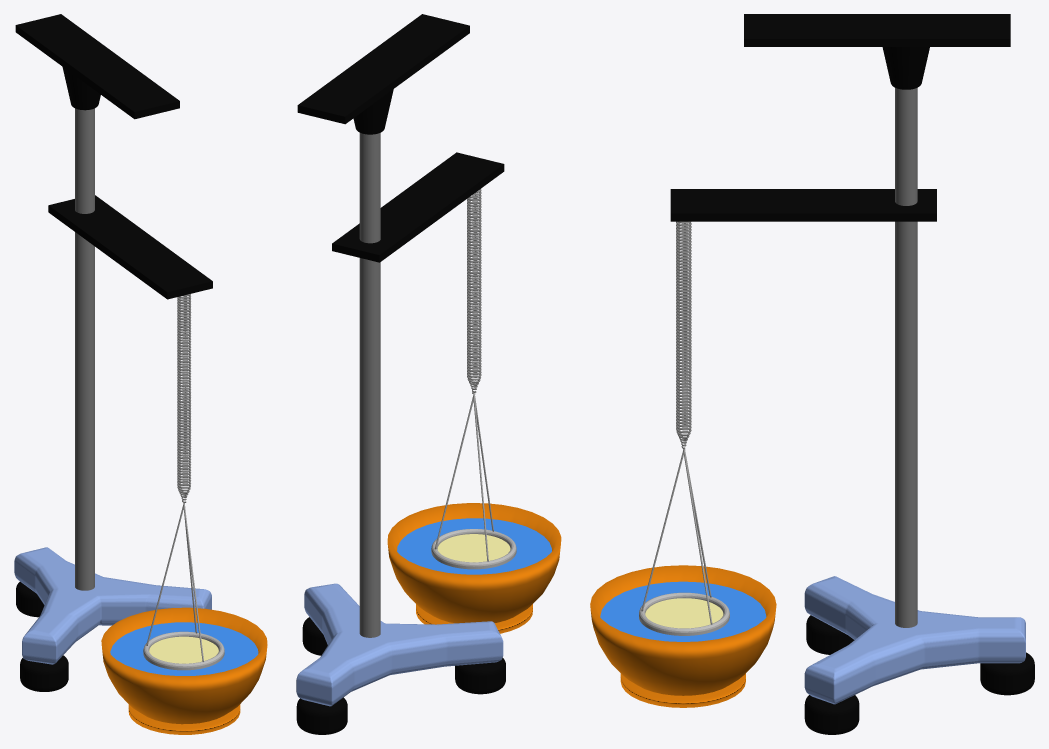
3 views of the same model, side by side, from view 1: azimuth 30°, elevation 25°; view 2: azimuth 150°, elevation 25°; view 3: azimuth 270°, elevation 25° (orthographic). The views are drawn at different scales.
Visible parts, largest first — view 1: Чаша.001, Стойка, Cylinder.001, Cube.001, Cube, water, Пружинка, Cylinder, oilExample, Кольцо, Cylinder.002, Ниточки; view 2: Стойка, Чаша.001, Cylinder.001, Cube.001, Cube, water, Cylinder, Пружинка, oilExample, Кольцо, Ниточки, Cylinder.002; view 3: Стойка, Чаша.001, Cylinder.001, Cube.001, Cube, Cylinder, water, Пружинка, oilExample, Cylinder.002, Кольцо, Ниточки.
Boxes of the visible parts, bbox=[...] form: Чаша.001: bbox=[101, 607, 267, 734]; Стойка: bbox=[14, 547, 211, 664]; Cylinder.001: bbox=[75, 108, 94, 590]; Cube.001: bbox=[15, 14, 179, 119]; Cube: bbox=[48, 195, 212, 299]; water: bbox=[110, 622, 258, 675]; Пружинка: bbox=[177, 294, 191, 503]; Cylinder: bbox=[16, 581, 68, 691]; oilExample: bbox=[149, 636, 218, 663]; Кольцо: bbox=[143, 631, 224, 670]; Cylinder.002: bbox=[62, 67, 100, 110]; Ниточки: bbox=[146, 502, 203, 661]; Стойка: bbox=[296, 583, 503, 706]; Чаша.001: bbox=[387, 503, 561, 633]; Cylinder.001: bbox=[359, 133, 380, 637]; Cube.001: bbox=[297, 14, 469, 124]; Cube: bbox=[332, 152, 504, 262]; water: bbox=[397, 518, 551, 574]; Cylinder: bbox=[296, 617, 505, 734]; Пружинка: bbox=[467, 189, 481, 393]; oilExample: bbox=[437, 534, 510, 562]; Кольцо: bbox=[431, 529, 516, 569]; Ниточки: bbox=[434, 392, 493, 561]; Cylinder.002: bbox=[353, 89, 393, 134]; Стойка: bbox=[804, 576, 1025, 704]; Чаша.001: bbox=[590, 565, 776, 707]; Cylinder.001: bbox=[895, 87, 917, 627]; Cube.001: bbox=[744, 14, 1010, 46]; Cube: bbox=[670, 189, 936, 221]; Cylinder: bbox=[804, 615, 1034, 734]; water: bbox=[600, 581, 766, 641]; Пружинка: bbox=[676, 221, 691, 449]; oilExample: bbox=[645, 598, 723, 628]; Cylinder.002: bbox=[882, 47, 929, 89]; Кольцо: bbox=[639, 592, 729, 635]; Ниточки: bbox=[641, 447, 712, 624].
Size of the model in its own units: 263 by 782 by 477.
